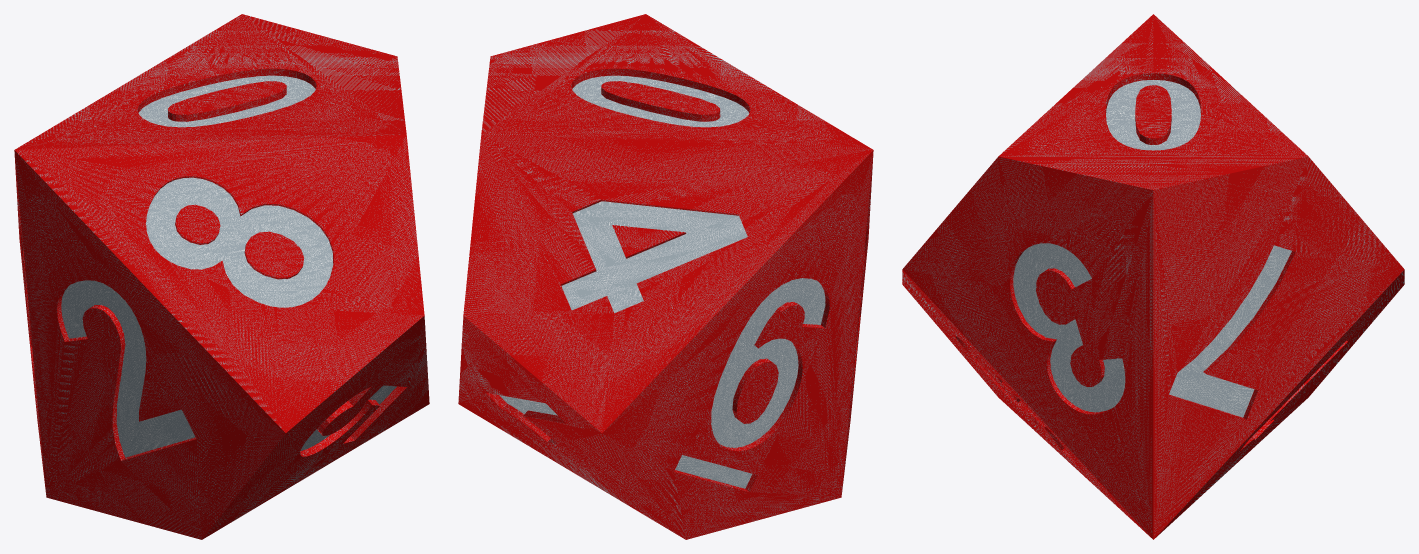
The model's file is Boardgame_D10_Red_01.fbx.
3 renders of one model, left to right at view 1: azimuth 30°, elevation 25°; view 2: azimuth 150°, elevation 25°; view 3: azimuth 270°, elevation 25°, orthographic. The views are drawn at different scales.
Visible parts, largest first — view 1: Model; view 2: Model; view 3: Model.
Part boxes in pixels (bbox=[...]): Model: bbox=[14, 14, 429, 539]; Model: bbox=[458, 14, 873, 539]; Model: bbox=[902, 14, 1404, 539].
Bounding box in the file's own units: 193 × 158 × 215.
